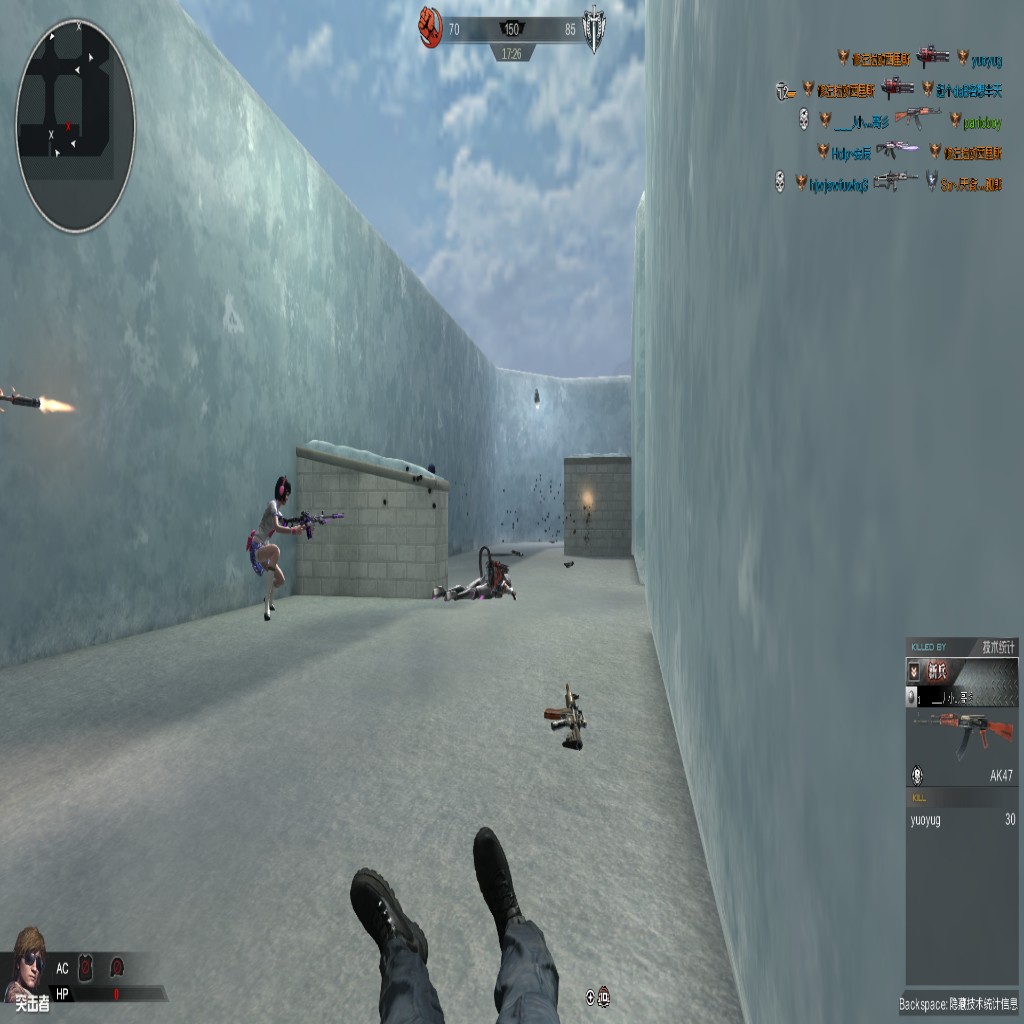tt: (247, 479, 308, 622)
